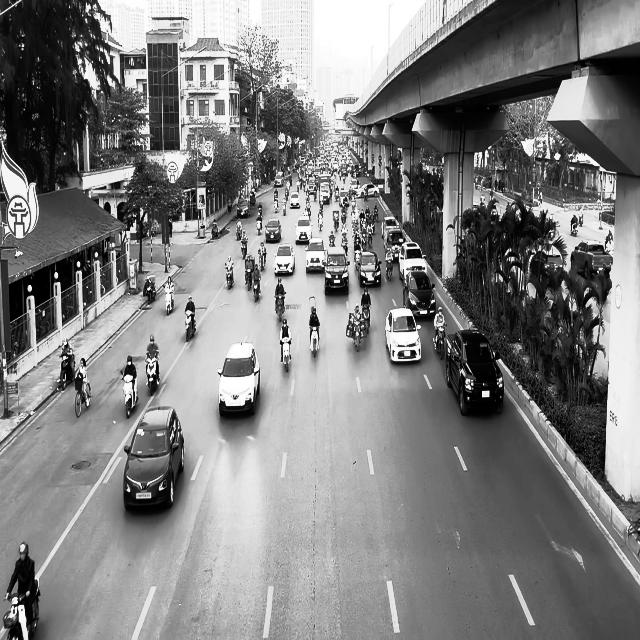car: (123, 405, 184, 511), (445, 328, 504, 416), (217, 342, 260, 416), (385, 307, 421, 363), (527, 242, 567, 288), (570, 240, 612, 279), (403, 270, 436, 318), (324, 246, 349, 294), (358, 250, 382, 286), (305, 237, 326, 273), (274, 243, 296, 276), (294, 216, 312, 243), (265, 218, 282, 242)
motorbike: (3, 578, 40, 640), (120, 369, 138, 418), (74, 375, 91, 417), (145, 352, 160, 395), (58, 354, 75, 390), (434, 324, 446, 359), (184, 309, 196, 342), (280, 336, 291, 372), (309, 323, 320, 357), (274, 292, 286, 321), (352, 319, 362, 351), (164, 284, 174, 315), (145, 276, 156, 303), (224, 263, 233, 289)
